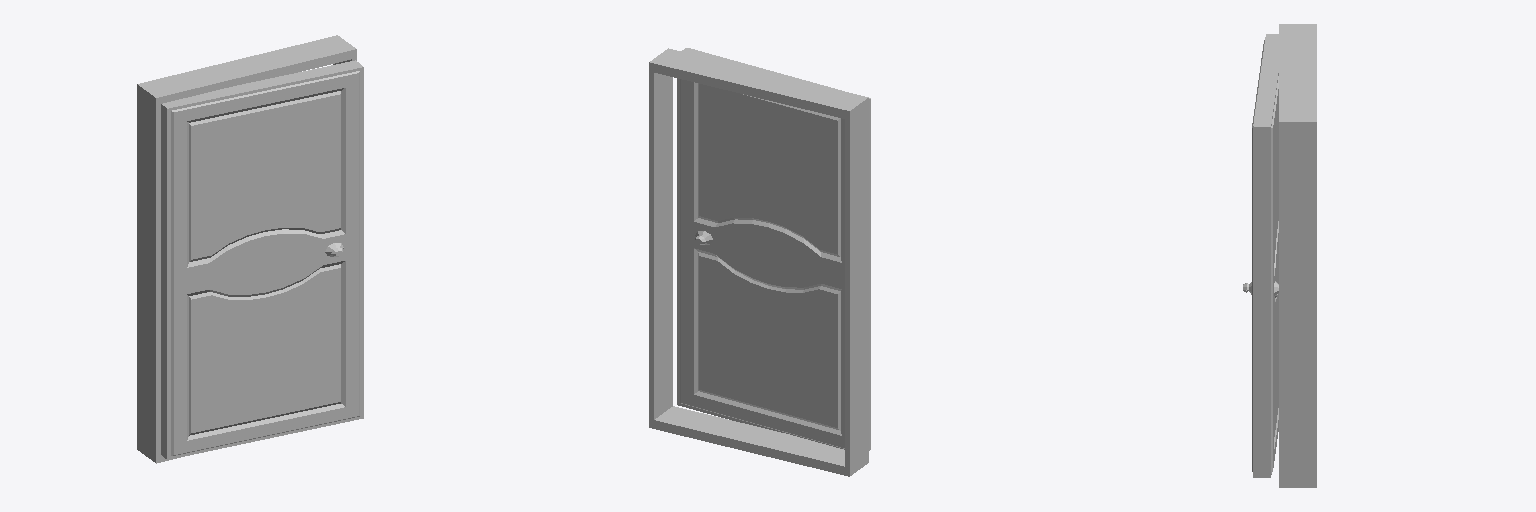
Rendered from drzwiok_000036.obj.
3 views of the same model, side by side, from view 1: azimuth 30°, elevation 25°; view 2: azimuth 150°, elevation 25°; view 3: azimuth 270°, elevation 25° (orthographic).
Visible parts, largest first — view 1: Door_4.001_Cube.001, Kostka; view 2: Door_4.001_Cube.001, Kostka; view 3: Kostka, Door_4.001_Cube.001.
Part boxes in pixels (bbox=[...]): Door_4.001_Cube.001: bbox=[161, 60, 363, 459]; Kostka: bbox=[137, 35, 356, 463]; Door_4.001_Cube.001: bbox=[677, 48, 870, 450]; Kostka: bbox=[649, 48, 868, 476]; Kostka: bbox=[1279, 24, 1316, 487]; Door_4.001_Cube.001: bbox=[1243, 34, 1278, 477].
Bounding box in the file's own units: 0.7416 × 1.29 × 0.2375.